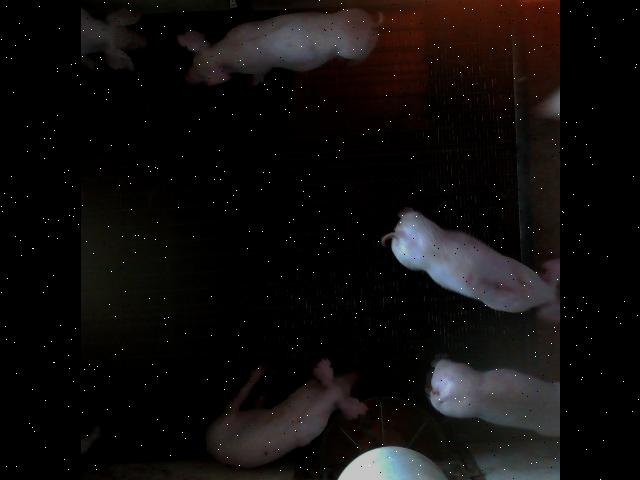pig-3: (380, 208, 559, 322)
